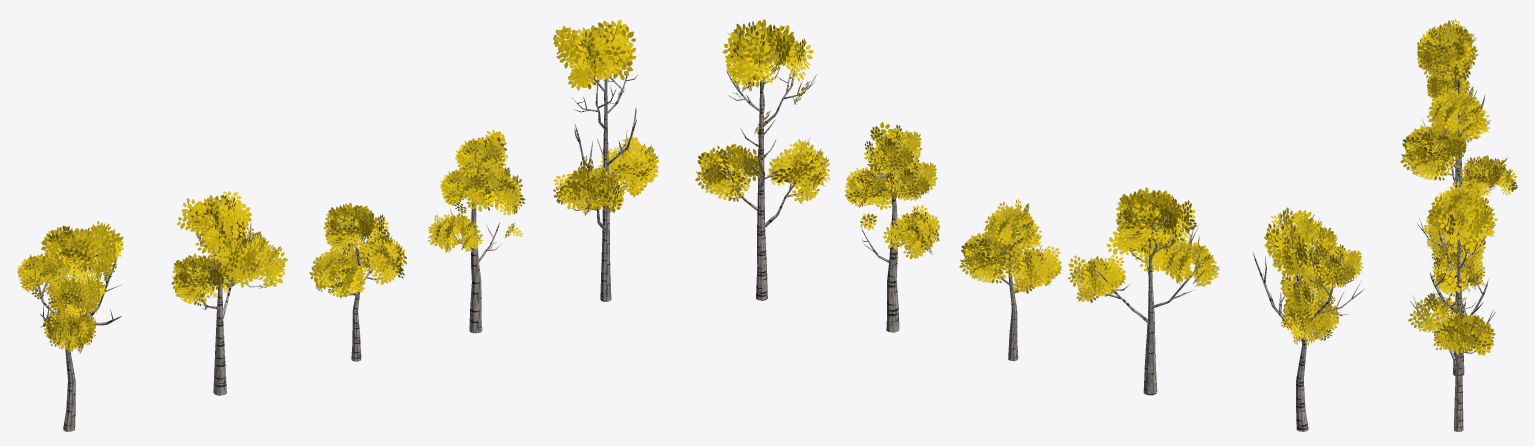
The model's file is birch-pack.glb.
3 renders of one model, left to right at view 1: azimuth 30°, elevation 25°; view 2: azimuth 150°, elevation 25°; view 3: azimuth 270°, elevation 25°, orthographic. The views are drawn at different scales.
Parts seen in each view (by area): view 1: BirchTree_2, BirchTree_3, BirchTree_5, BirchTree_1, BirchTree_4; view 2: BirchTree_2, BirchTree_5, BirchTree_3, BirchTree_1, BirchTree_4; view 3: BirchTree_2, BirchTree_5, BirchTree_3, BirchTree_1, BirchTree_4.
Boxes of the visible parts, bbox=[...] form: BirchTree_2: bbox=[553, 19, 658, 301]; BirchTree_3: bbox=[17, 221, 123, 431]; BirchTree_5: bbox=[171, 191, 287, 395]; BirchTree_1: bbox=[427, 129, 525, 333]; BirchTree_4: bbox=[309, 202, 406, 361]; BirchTree_2: bbox=[695, 19, 830, 300]; BirchTree_5: bbox=[1068, 187, 1219, 395]; BirchTree_3: bbox=[1253, 207, 1363, 431]; BirchTree_1: bbox=[845, 122, 940, 332]; BirchTree_4: bbox=[959, 199, 1062, 361]; BirchTree_2: bbox=[1408, 179, 1497, 431]; BirchTree_5: bbox=[1400, 82, 1517, 197]; BirchTree_3: bbox=[1416, 19, 1478, 190]; BirchTree_1: bbox=[1424, 202, 1485, 375]; BirchTree_4: bbox=[1430, 189, 1485, 309].
Size of the model in its own units: 18.56 by 7.57 by 3.51.
2 materials, 2 textured.
